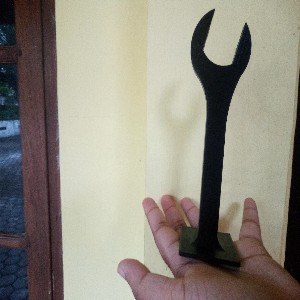spanner: (177, 9, 252, 267)
